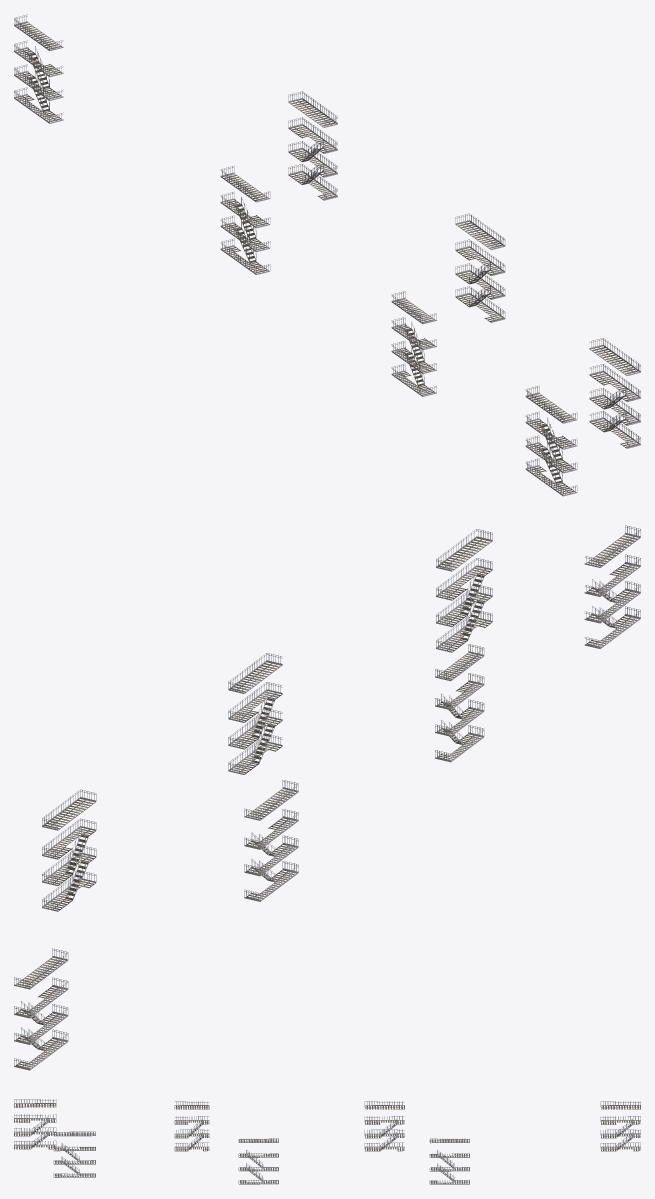
The model's file is fireescapes2_lan2.obj.
The picture shows the model from 3 angles, top to bottom: view 1: azimuth 30°, elevation 25°; view 2: azimuth 150°, elevation 25°; view 3: azimuth 270°, elevation 25°; orthographic projection. The views are drawn at different scales.
Parts seen in each view (by area): view 1: fireescapes2_lan2; view 2: fireescapes2_lan2; view 3: fireescapes2_lan2.
Part boxes in pixels (x1=…): fireescapes2_lan2: x1=14, y1=14, x2=640, y2=496; fireescapes2_lan2: x1=14, y1=525, x2=640, y2=1070; fireescapes2_lan2: x1=14, y1=1099, x2=640, y2=1184.
Size of the model in its own units: 23.24 by 13.35 by 158.
